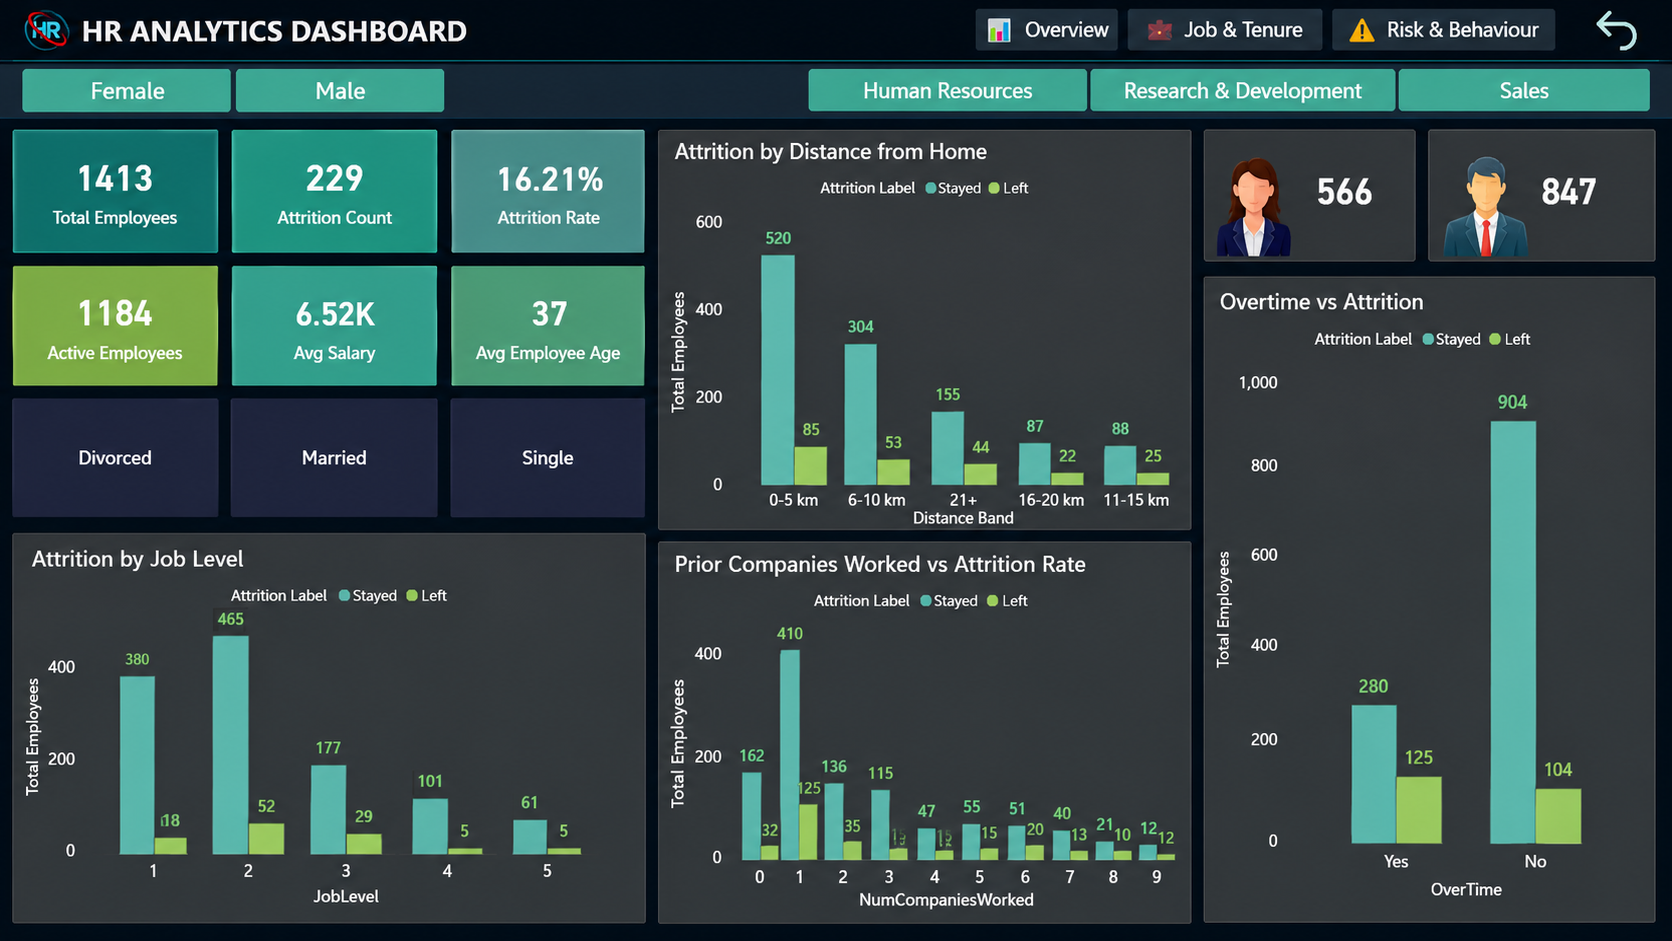

This screenshot's page, from the dashboard's own definition file:
{"tool":"powerbi","page":{"name":"Risk & Behaviour","canvas":[1500,850],"ordinal":2},"visuals":[{"type":"card","fields":{"Values":["HR_Analytics.Total Employees"]},"box":[10,114,182,114],"z":0},{"type":"card","fields":{"Values":["HR_Analytics.Attrition Count"]},"box":[208,114,184,114],"z":1000},{"type":"card","fields":{"Values":["HR_Analytics.Attrition Rate"]},"box":[408,116,184,112],"z":2000},{"type":"card","fields":{"Values":["HR_Analytics.Avg Employee Age"]},"box":[408,238,182,114],"z":3000},{"type":"card","fields":{"Values":["HR_Analytics.Avg Salary"]},"box":[210,238,180,114],"z":4000},{"type":"shape","box":[0,0,1500,57.1],"z":5000},{"type":"textbox","box":[77.6,5.9,367.3,46.8],"z":6000},{"type":"image","box":[0,0,105.4,76.1],"z":7000},{"type":"shape","box":[0,54,1500,52],"z":8000},{"type":"card","fields":{"Values":["HR_Analytics.Active Employees"]},"box":[10,238,182,114],"z":9000},{"type":"advancedSlicerVisual","fields":{"Values":["HR_Analytics.MaritalStatus"]},"box":[8.3,360,591.7,106.7],"z":10000},{"type":"card","fields":{"Values":["HR_Analytics.Male"]},"box":[1290,116,200,140],"z":11000},{"type":"card","fields":{"Values":["HR_Analytics.Female"]},"box":[1090,116,186,140],"z":12000},{"type":"image","box":[1276,182,102,70],"z":13000},{"type":"image","box":[1078,172,84,92],"z":14000},{"type":"slicer","fields":{"Values":["HR_Analytics.Gender"]},"box":[16.4,59.1,393.6,39.1],"z":15000},{"type":"actionButton","title":"Overview","box":[915,10,135,33.3],"z":16000},{"type":"actionButton","title":"Job and Tenure","box":[1043.3,10,186.7,33.3],"z":17000},{"type":"actionButton","box":[1436.7,0,60,53.3],"z":18000},{"type":"slicer","fields":{"Values":["HR_Analytics.Department"]},"box":[702,54,798,50],"z":19000},{"type":"actionButton","title":"Overview","box":[1225,10,201.2,33.8],"z":20000},{"type":"clusteredColumnChart","title":"Prior Companies Worked vs Attrition Rate","fields":{"Series":["HR_Analytics.Attrition Label"],"Y":["CountNonNull(HR_Analytics.EmpID)"],"Category":["HR_Analytics.NumCompaniesWorked"]},"box":[606,476,470,362],"z":21000},{"type":"clusteredColumnChart","title":"Attrition by Distance from Home","fields":{"Series":["HR_Analytics.Attrition Label"],"Y":["CountNonNull(HR_Analytics.EmpID)"],"Category":["HR_Analytics.Distance Band"]},"box":[608.3,116.7,470,350],"z":22000},{"type":"clusteredColumnChart","title":"Overtime vs Attrition","fields":{"Series":["HR_Analytics.Attrition Label"],"Y":["CountNonNull(HR_Analytics.EmpID)"],"Category":["HR_Analytics.OverTime"]},"box":[1090,270,400,566.7],"z":23000},{"type":"clusteredColumnChart","title":"Attrition by Job Level","fields":{"Series":["HR_Analytics.Attrition Label"],"Y":["CountNonNull(HR_Analytics.EmpID)"],"Category":["HR_Analytics.JobLevel"]},"box":[16.7,473.3,573.3,363.3],"z":24000}]}

Visuals, with their boxes in screenshot pixels (x1, y1, x2, y2), scaled from the page's 1500x850 canvas onto the 1672x941 screenshot:
card - HR_Analytics.Total Employees: detection(11, 126, 214, 252)
card - HR_Analytics.Attrition Count: detection(232, 126, 437, 252)
card - HR_Analytics.Attrition Rate: detection(455, 128, 660, 252)
card - HR_Analytics.Avg Employee Age: detection(455, 263, 658, 390)
card - HR_Analytics.Avg Salary: detection(234, 263, 435, 390)
shape: detection(0, 0, 1671, 63)
textbox: detection(86, 7, 496, 58)
image: detection(0, 0, 117, 84)
shape: detection(0, 60, 1671, 117)
card - HR_Analytics.Active Employees: detection(11, 263, 214, 390)
advancedSlicerVisual - HR_Analytics.MaritalStatus: detection(9, 399, 669, 517)
card - HR_Analytics.Male: detection(1438, 128, 1661, 283)
card - HR_Analytics.Female: detection(1215, 128, 1422, 283)
image: detection(1422, 201, 1536, 279)
image: detection(1202, 190, 1295, 292)
slicer - HR_Analytics.Gender: detection(18, 65, 457, 109)
"Overview" actionButton: detection(1020, 11, 1170, 48)
"Job and Tenure" actionButton: detection(1163, 11, 1371, 48)
actionButton: detection(1601, 0, 1668, 59)
slicer - HR_Analytics.Department: detection(782, 60, 1671, 115)
"Overview" actionButton: detection(1365, 11, 1590, 48)
"Prior Companies Worked vs Attrition Rate" clusteredColumnChart: detection(675, 527, 1199, 928)
"Attrition by Distance from Home" clusteredColumnChart: detection(678, 129, 1202, 517)
"Overtime vs Attrition" clusteredColumnChart: detection(1215, 299, 1661, 926)
"Attrition by Job Level" clusteredColumnChart: detection(19, 524, 658, 926)
